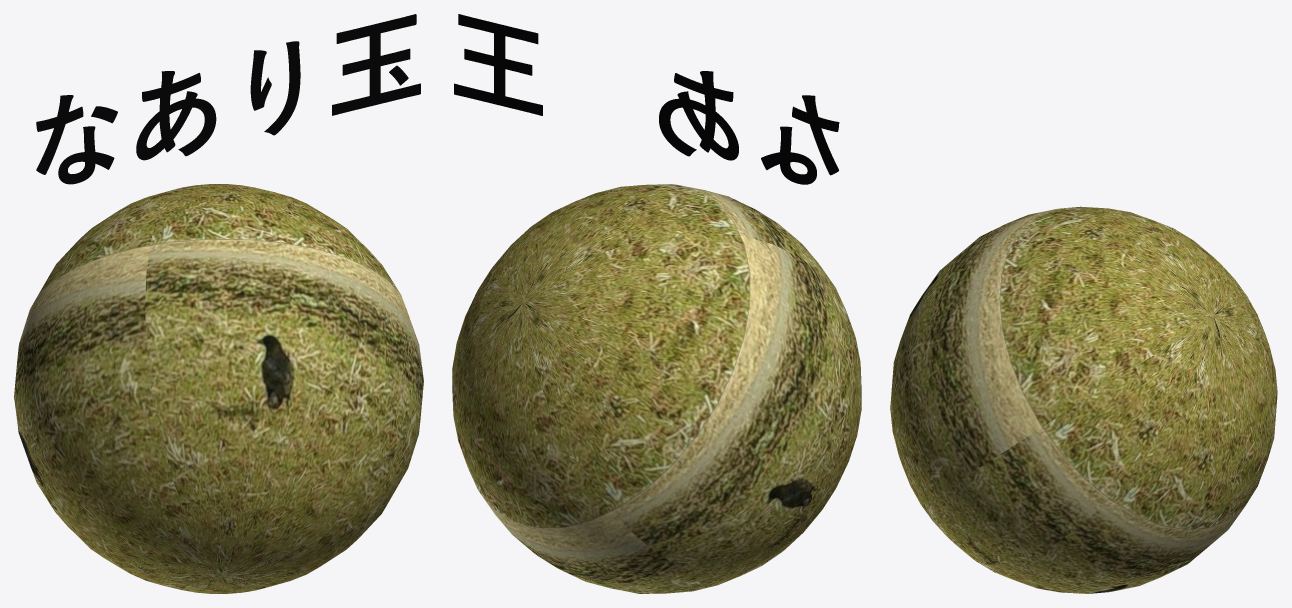
3 renders of one model, left to right at view 1: azimuth 30°, elevation 25°; view 2: azimuth 150°, elevation 25°; view 3: azimuth 270°, elevation 25°, orthographic. The views are drawn at different scales.
Parts seen in each view (by area): view 1: 球, テキスト; view 2: 球, テキスト; view 3: 球.
Boxes of the visible parts, x1=… form: 球: x1=14, y1=184, x2=423, y2=593; テキスト: x1=36, y1=14, x2=420, y2=184; 球: x1=452, y1=184, x2=861, y2=593; テキスト: x1=454, y1=14, x2=839, y2=184; 球: x1=890, y1=206, x2=1277, y2=593.
Bounding box in the file's own units: 4.47 × 5.74 × 4.12.
2 materials, 1 textured.
